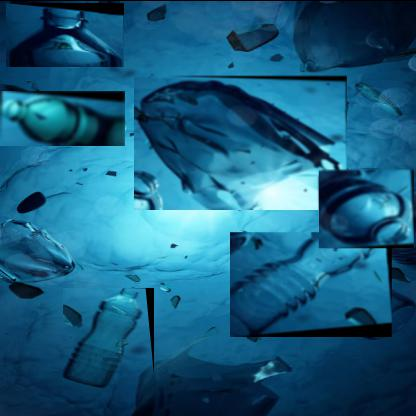bottle: (230, 230, 393, 336), (63, 286, 155, 384), (319, 166, 415, 247), (6, 1, 125, 66), (0, 89, 126, 145)
plastic-bag: (134, 73, 348, 209)
